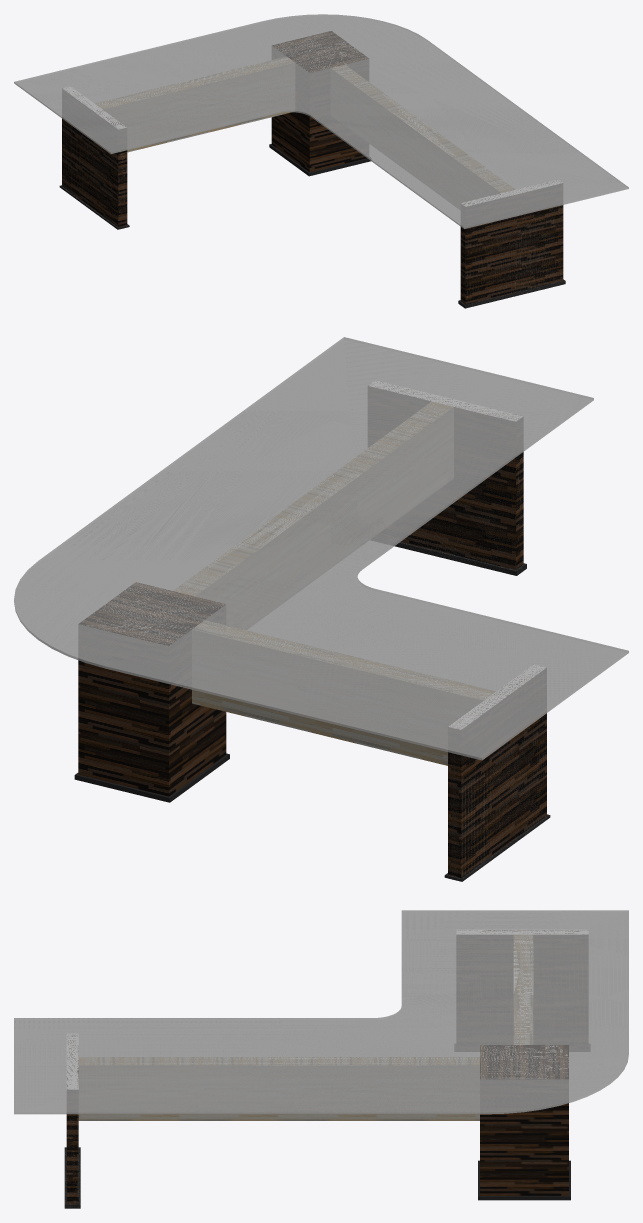
Rendered from mesaDeVidroEmL.dae.
The picture shows the model from 3 angles, top to bottom: view 1: azimuth 30°, elevation 25°; view 2: azimuth 150°, elevation 25°; view 3: azimuth 270°, elevation 25°; orthographic projection. The views are drawn at different scales.
Parts seen in each view (by area): view 1: SketchUp (×12); view 2: SketchUp (×12); view 3: SketchUp (×11).
Part boxes in pixels (x1,y1,x2,y2): SketchUp (×12): (14, 14, 628, 308); SketchUp (×12): (14, 337, 628, 877); SketchUp (×11): (14, 910, 628, 1208).
Size of the model in its own units: 95.28 by 122 by 26.77.
Materials: 6 (2 with a texture image).
